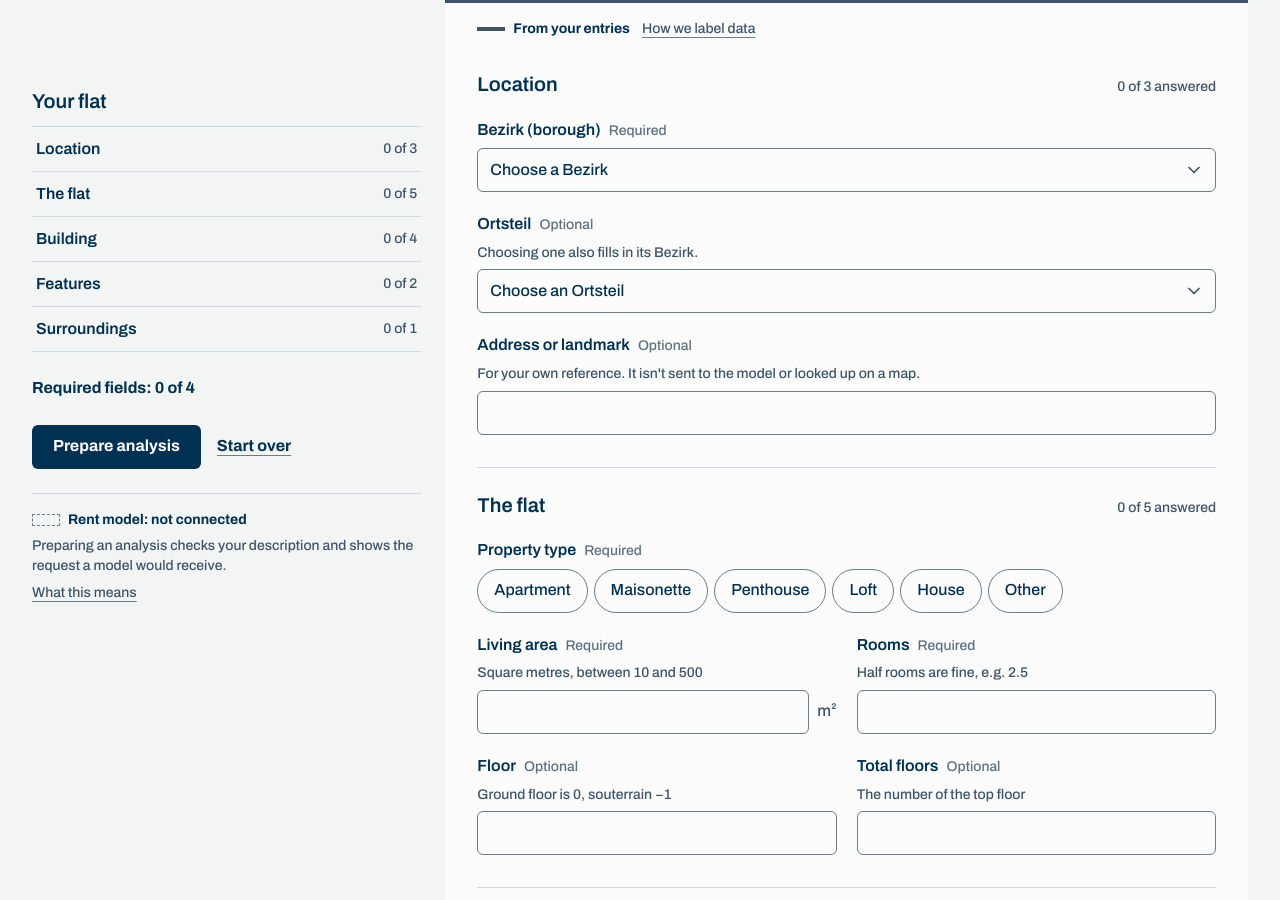
PropertyAnalysisForm › choosing an Ortsteil first fills in its Bezirk
The width and height of the screenshot is (1280, 900).
Select "Moabit" in the dropdown labelled "Ortsteil Optional": (847,292) [477,270,1216,314]
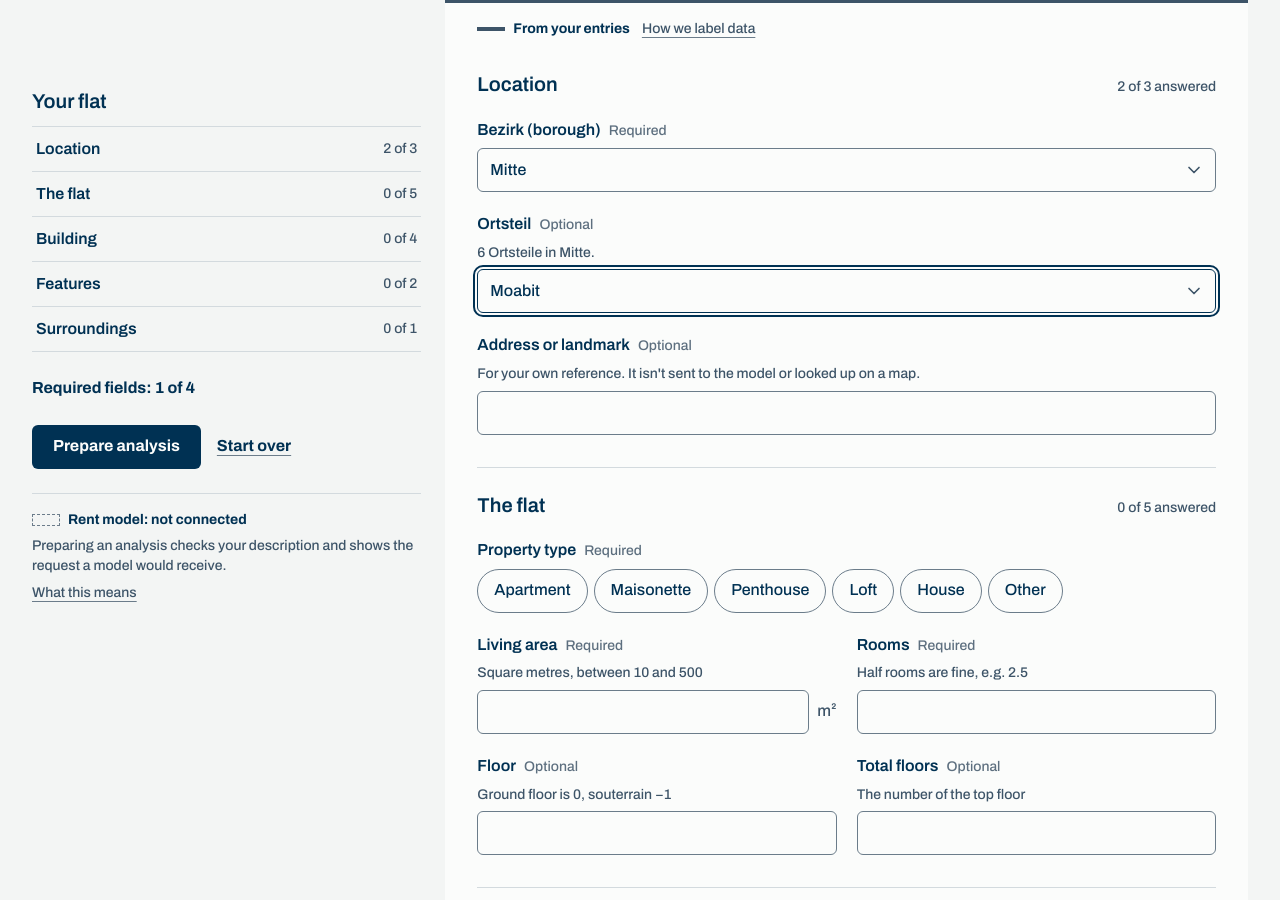
Expected: the dropdown labelled "Bezirk (borough) Required" shows "Mitte", [477,148,1216,192]
